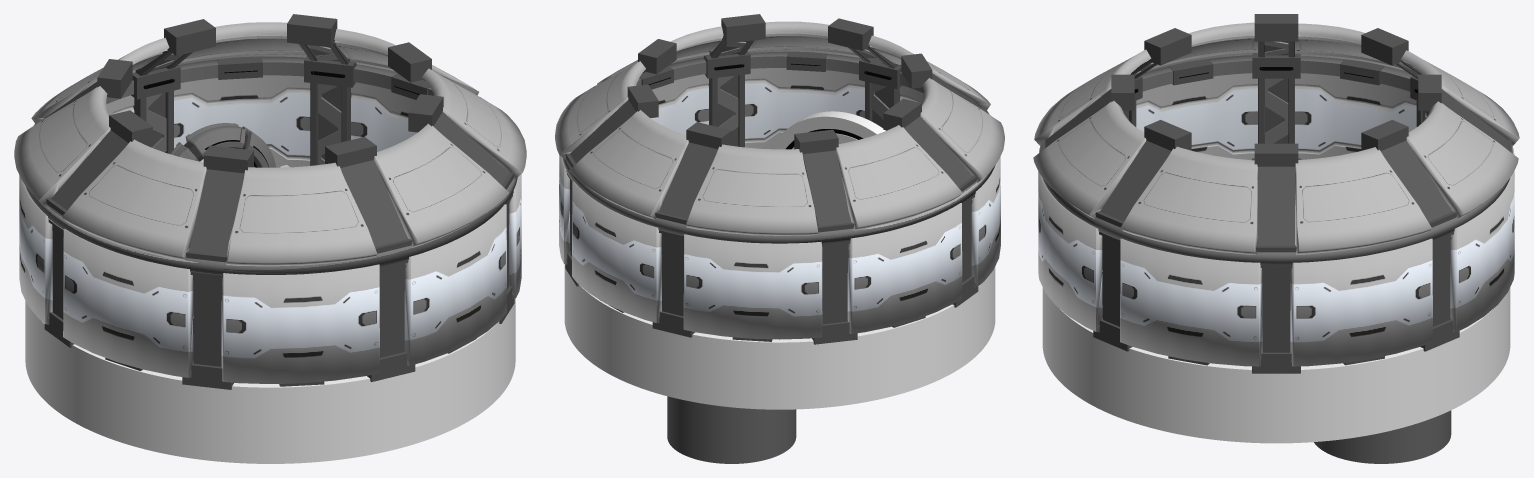
File: Ship_1120.fbx
3 views of the same model, side by side, from view 1: azimuth 30°, elevation 25°; view 2: azimuth 150°, elevation 25°; view 3: azimuth 270°, elevation 25° (orthographic). The views are drawn at different scales.
Visible parts, largest first — view 1: Cube.043, Cube.039, Circle.005, 2, BigRing; view 2: Cube.043, Circle.005, Cube.039, 2, Circle.010; view 3: Cube.043, Circle.005, Cube.039, 2.
Boxes of the visible parts, x1,y1,x2,y2 form: Cube.043: (14, 22, 526, 383); Cube.039: (34, 14, 514, 389); Circle.005: (25, 298, 515, 463); 2: (25, 56, 517, 275); BigRing: (170, 123, 275, 167); Cube.043: (555, 21, 1004, 339); Circle.005: (564, 264, 995, 463); Cube.039: (565, 14, 989, 344); 2: (562, 51, 995, 243); Circle.010: (770, 111, 885, 149); Cube.043: (1033, 22, 1519, 366); Circle.005: (1042, 288, 1510, 463); Cube.039: (1041, 14, 1511, 373); 2: (1040, 55, 1512, 265).
Bounding box in the file's own units: 12043 × 9577 × 12043.
